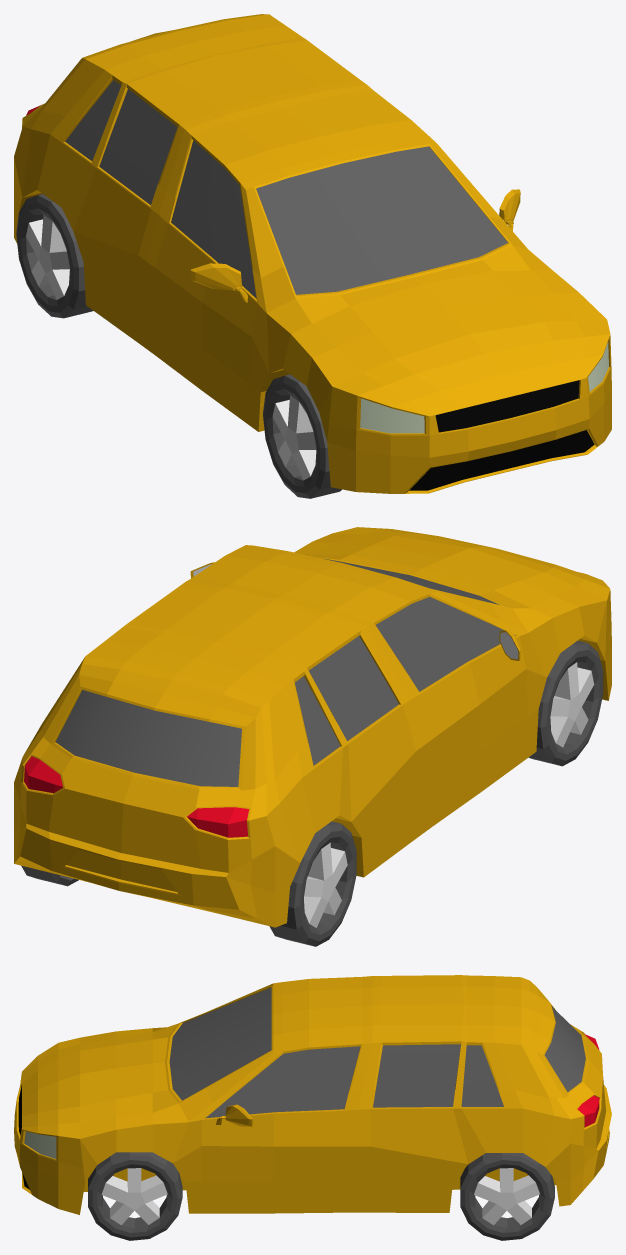
File: Golf.fbx
3 views of the same model, one above another, from view 1: azimuth 30°, elevation 25°; view 2: azimuth 150°, elevation 25°; view 3: azimuth 270°, elevation 25° (orthographic). The views are drawn at different scales.
Visible parts, largest first — view 1: Cube.001; view 2: Cube.001; view 3: Cube.001.
Part boxes in pixels (box(x1,y1,x2,y2)): Cube.001: box(14, 14, 611, 498); Cube.001: box(14, 527, 611, 946); Cube.001: box(14, 975, 611, 1240).
Size of the model in its own units: 276 by 196 by 574.
